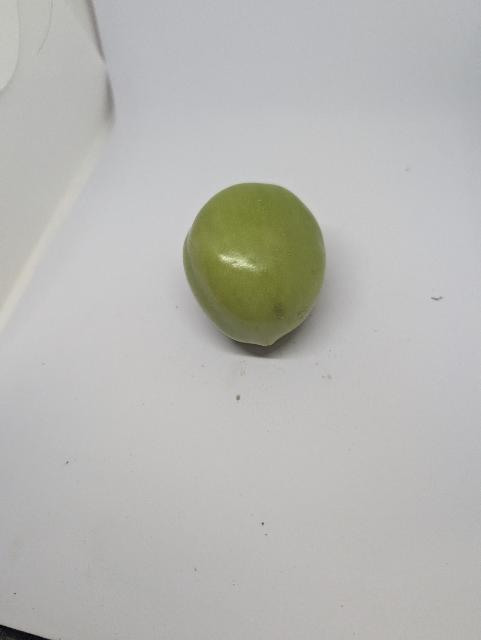green: (182, 180, 330, 350)
